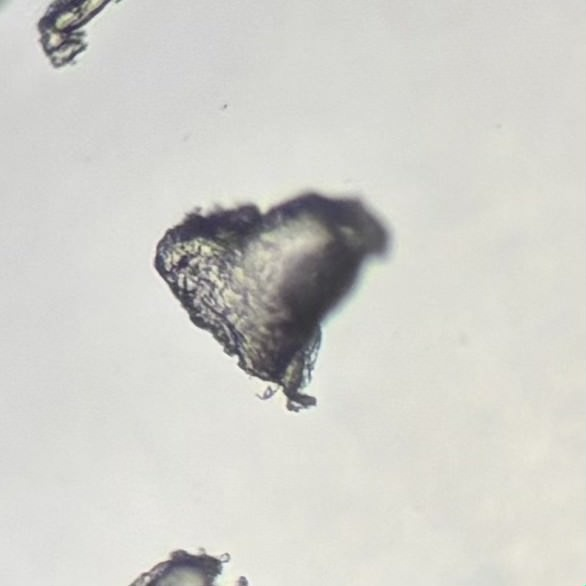microplastic: (151, 189, 396, 415), (34, 1, 114, 70), (117, 546, 251, 586)
